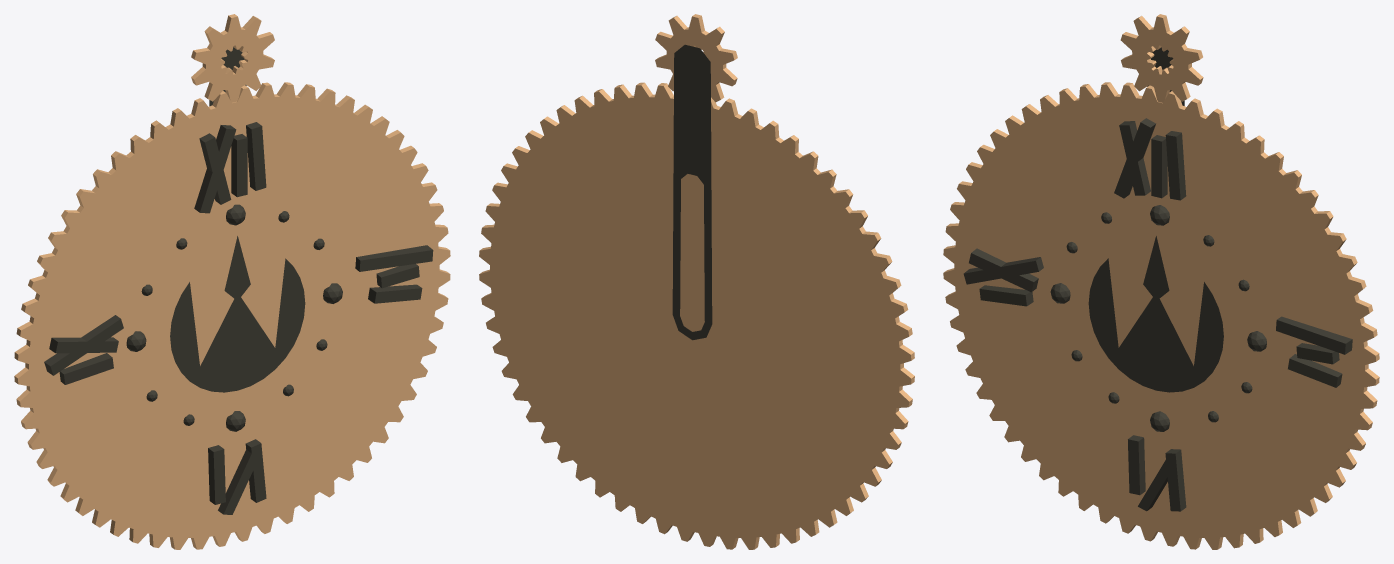
Rendered from clock.glb.
3 views of the same model, side by side, from view 1: azimuth 30°, elevation 25°; view 2: azimuth 150°, elevation 25°; view 3: azimuth 330°, elevation 25° (orthographic).
Parts seen in each view (by area): view 1: cog, numbers, front, seconds-cog; view 2: cog, bar, seconds-cog; view 3: cog, numbers, front, seconds-cog.
Part boxes in pixels (box(x1,y1,x2,y2)): cog: box(14, 82, 450, 549); numbers: box(44, 122, 433, 514); front: box(170, 236, 305, 392); seconds-cog: box(191, 14, 274, 102); cog: box(479, 82, 914, 549); bar: box(672, 44, 712, 340); seconds-cog: box(655, 14, 737, 102); cog: box(943, 82, 1379, 549); numbers: box(963, 118, 1352, 511); front: box(1088, 236, 1223, 392); seconds-cog: box(1120, 14, 1203, 102).
Bounding box in the file's own units: 1.44 × 1.68 × 0.0742.
